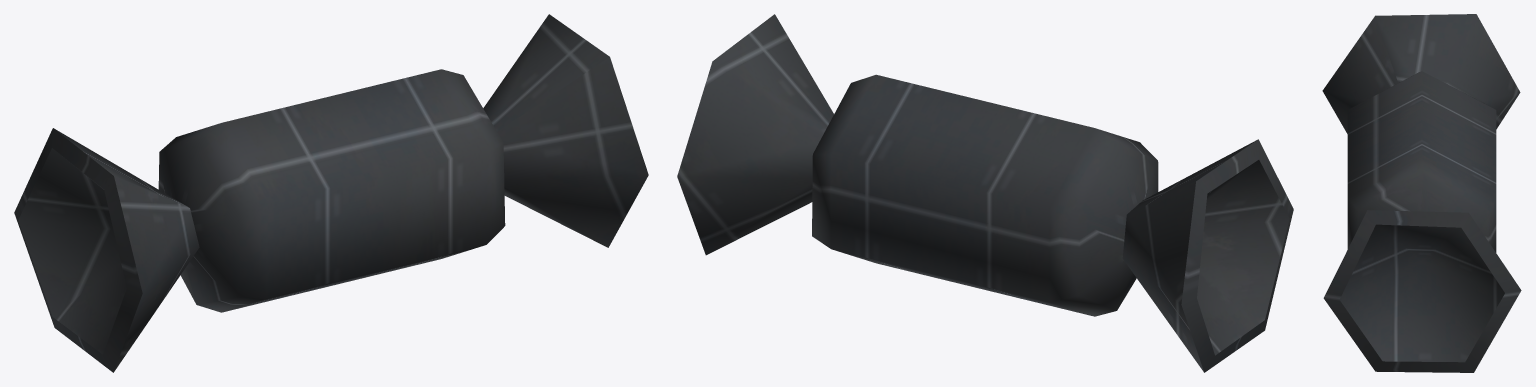
Rendered from BulletCandy.fbx.
The picture shows the model from 3 angles, left to right: view 1: azimuth 30°, elevation 25°; view 2: azimuth 150°, elevation 25°; view 3: azimuth 270°, elevation 25°; orthographic projection. The views are drawn at different scales.
Visible parts, largest first — view 1: Bullet_Candy; view 2: Bullet_Candy; view 3: Bullet_Candy.
Boxes of the visible parts, x1,y1,x2,y2 form: Bullet_Candy: [14, 14, 648, 372]; Bullet_Candy: [677, 14, 1293, 372]; Bullet_Candy: [1322, 14, 1521, 372].
Bounding box in the file's own units: 0.5394 × 0.1926 × 0.2158.
Materials: 1 (1 with a texture image).
